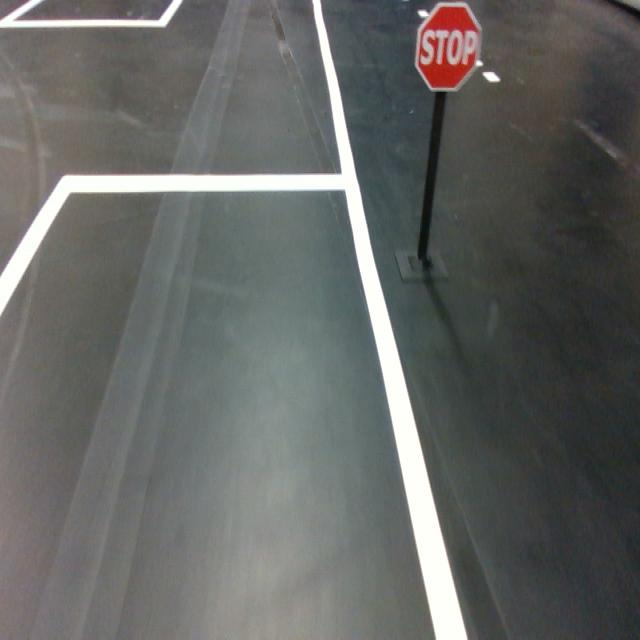stop-sign: (415, 2, 481, 92)
